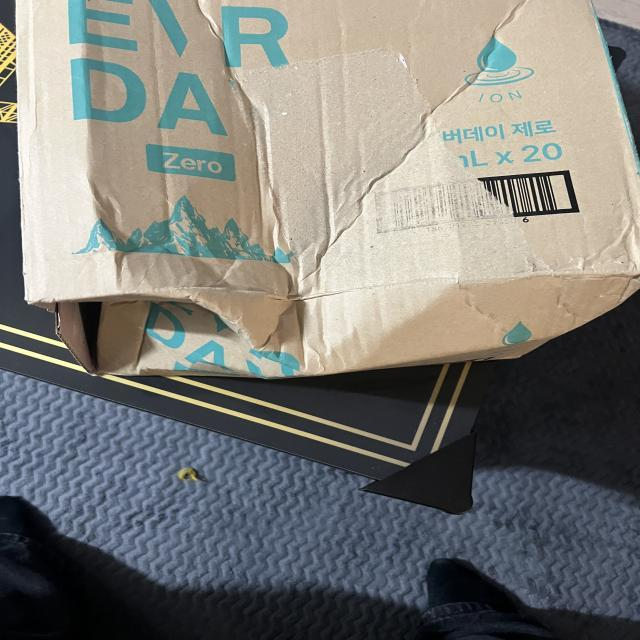box: (11, 0, 640, 380)
crushed: (213, 131, 417, 363), (550, 212, 640, 307)
opened: (31, 270, 132, 372)
